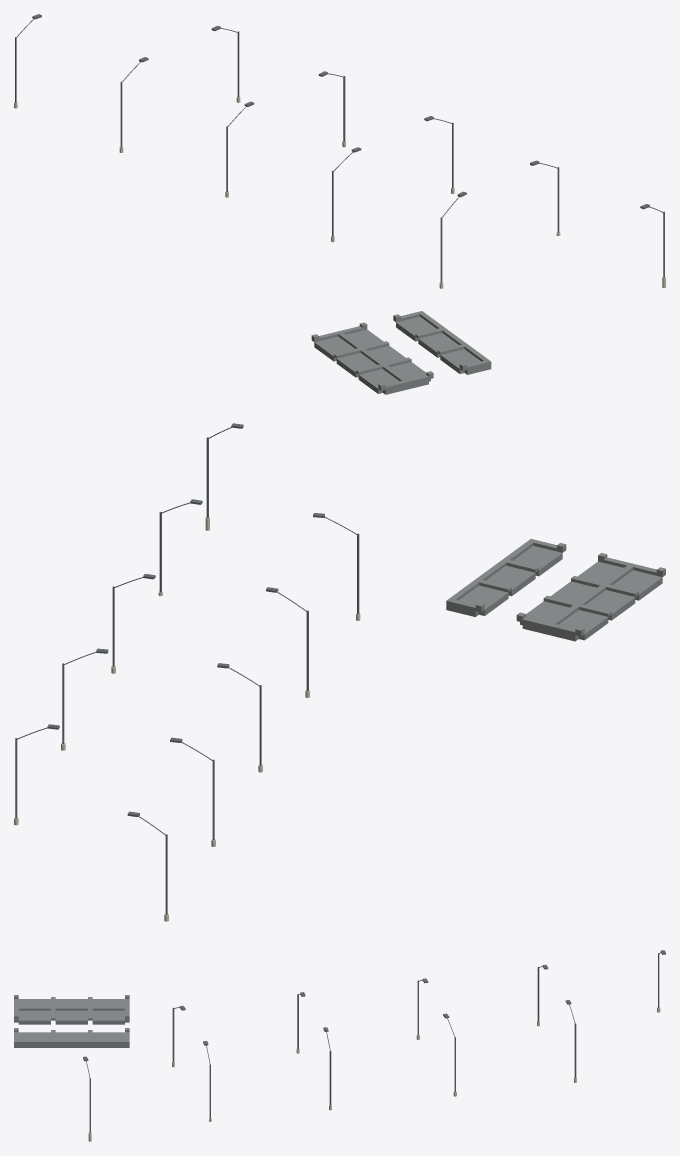
3 views of the same model, one above another, from view 1: azimuth 30°, elevation 25°; view 2: azimuth 150°, elevation 25°; view 3: azimuth 270°, elevation 25° (orthographic). The views are drawn at different scales.
Parts seen in each view (by area): view 1: buildings_s_0_-5_Standing_Seam_Roof, buildings_s_0_-5_Dark_Metal; view 2: buildings_s_0_-5_Standing_Seam_Roof, buildings_s_0_-5_Dark_Metal; view 3: buildings_s_0_-5_Standing_Seam_Roof, buildings_s_0_-5_Dark_Metal.
Part boxes in pixels (bbox=[...]): buildings_s_0_-5_Standing_Seam_Roof: bbox=[311, 311, 491, 394]; buildings_s_0_-5_Dark_Metal: bbox=[15, 14, 664, 283]; buildings_s_0_-5_Standing_Seam_Roof: bbox=[446, 539, 665, 641]; buildings_s_0_-5_Dark_Metal: bbox=[15, 423, 359, 914]; buildings_s_0_-5_Standing_Seam_Roof: bbox=[14, 995, 129, 1047]; buildings_s_0_-5_Dark_Metal: bbox=[83, 950, 665, 1132].
Bounding box in the file's own units: 68.84 × 17.75 × 141.
